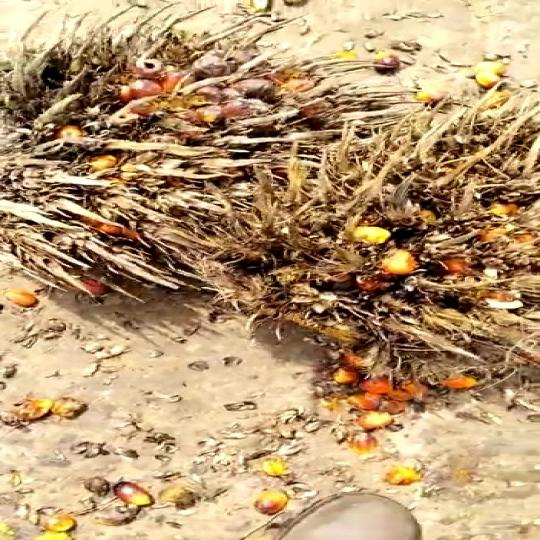terlalu masak: (0, 37, 373, 270), (217, 132, 540, 379)
